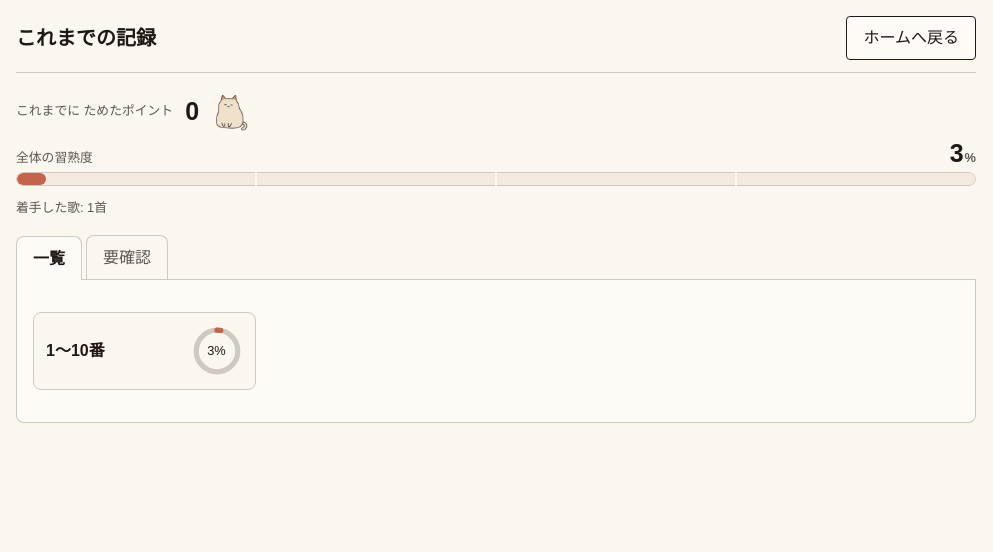
it: history: 初句が無ければ番号だけを出す
Click the button with class "history-group".
click(144, 351)  # box [33, 312, 256, 390]
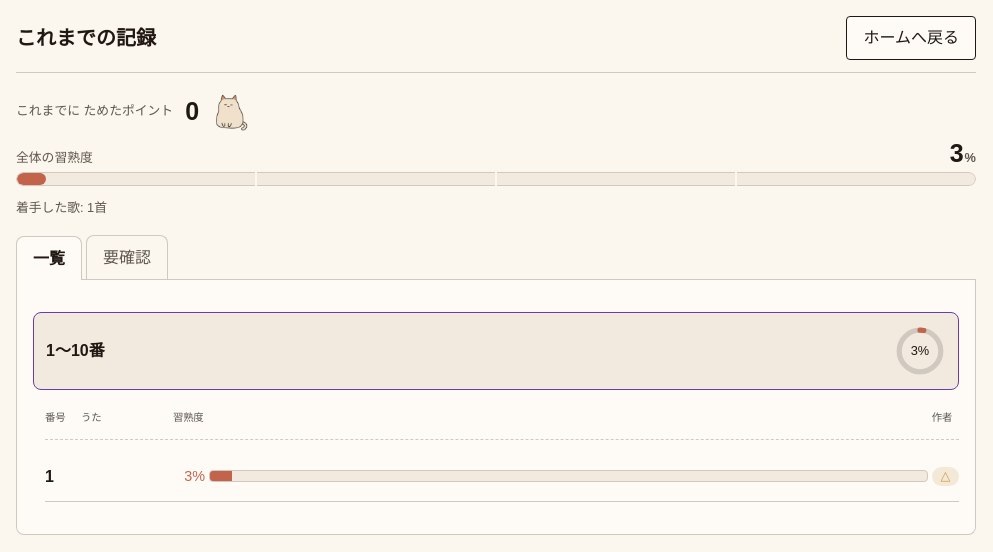
Now the text with class "history-entry__no" reads "1", box [45, 468, 54, 485]
